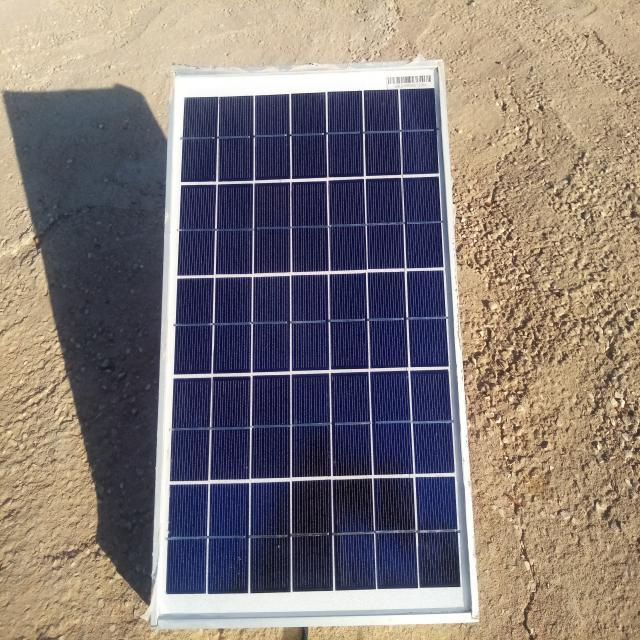Normal Solar Panel: (151, 62, 477, 624)
